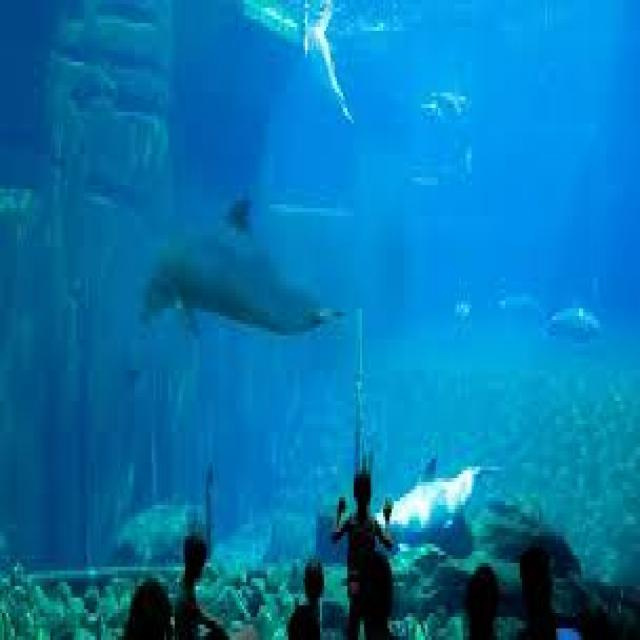dolphin: (126, 193, 337, 389)
